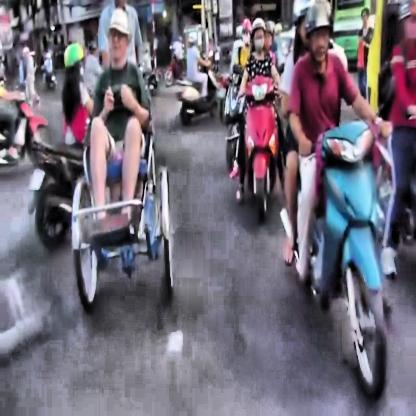wear: (304, 2, 333, 62), (64, 42, 86, 80), (251, 19, 267, 54)
